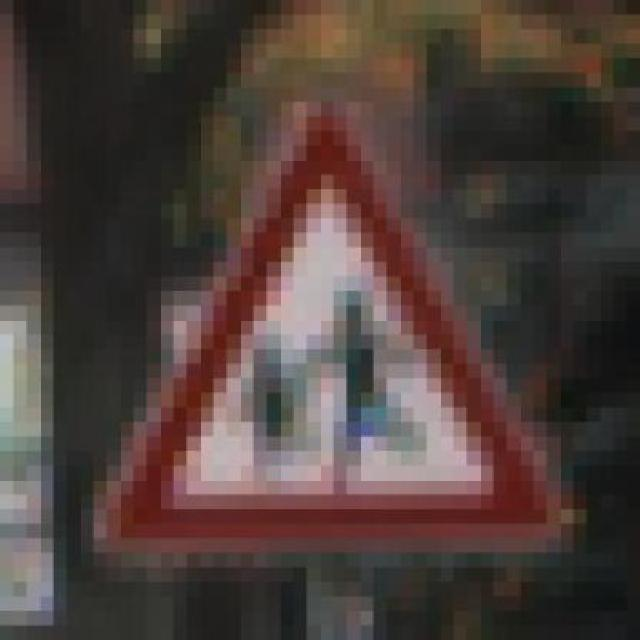Beware of children: (93, 87, 573, 553)
